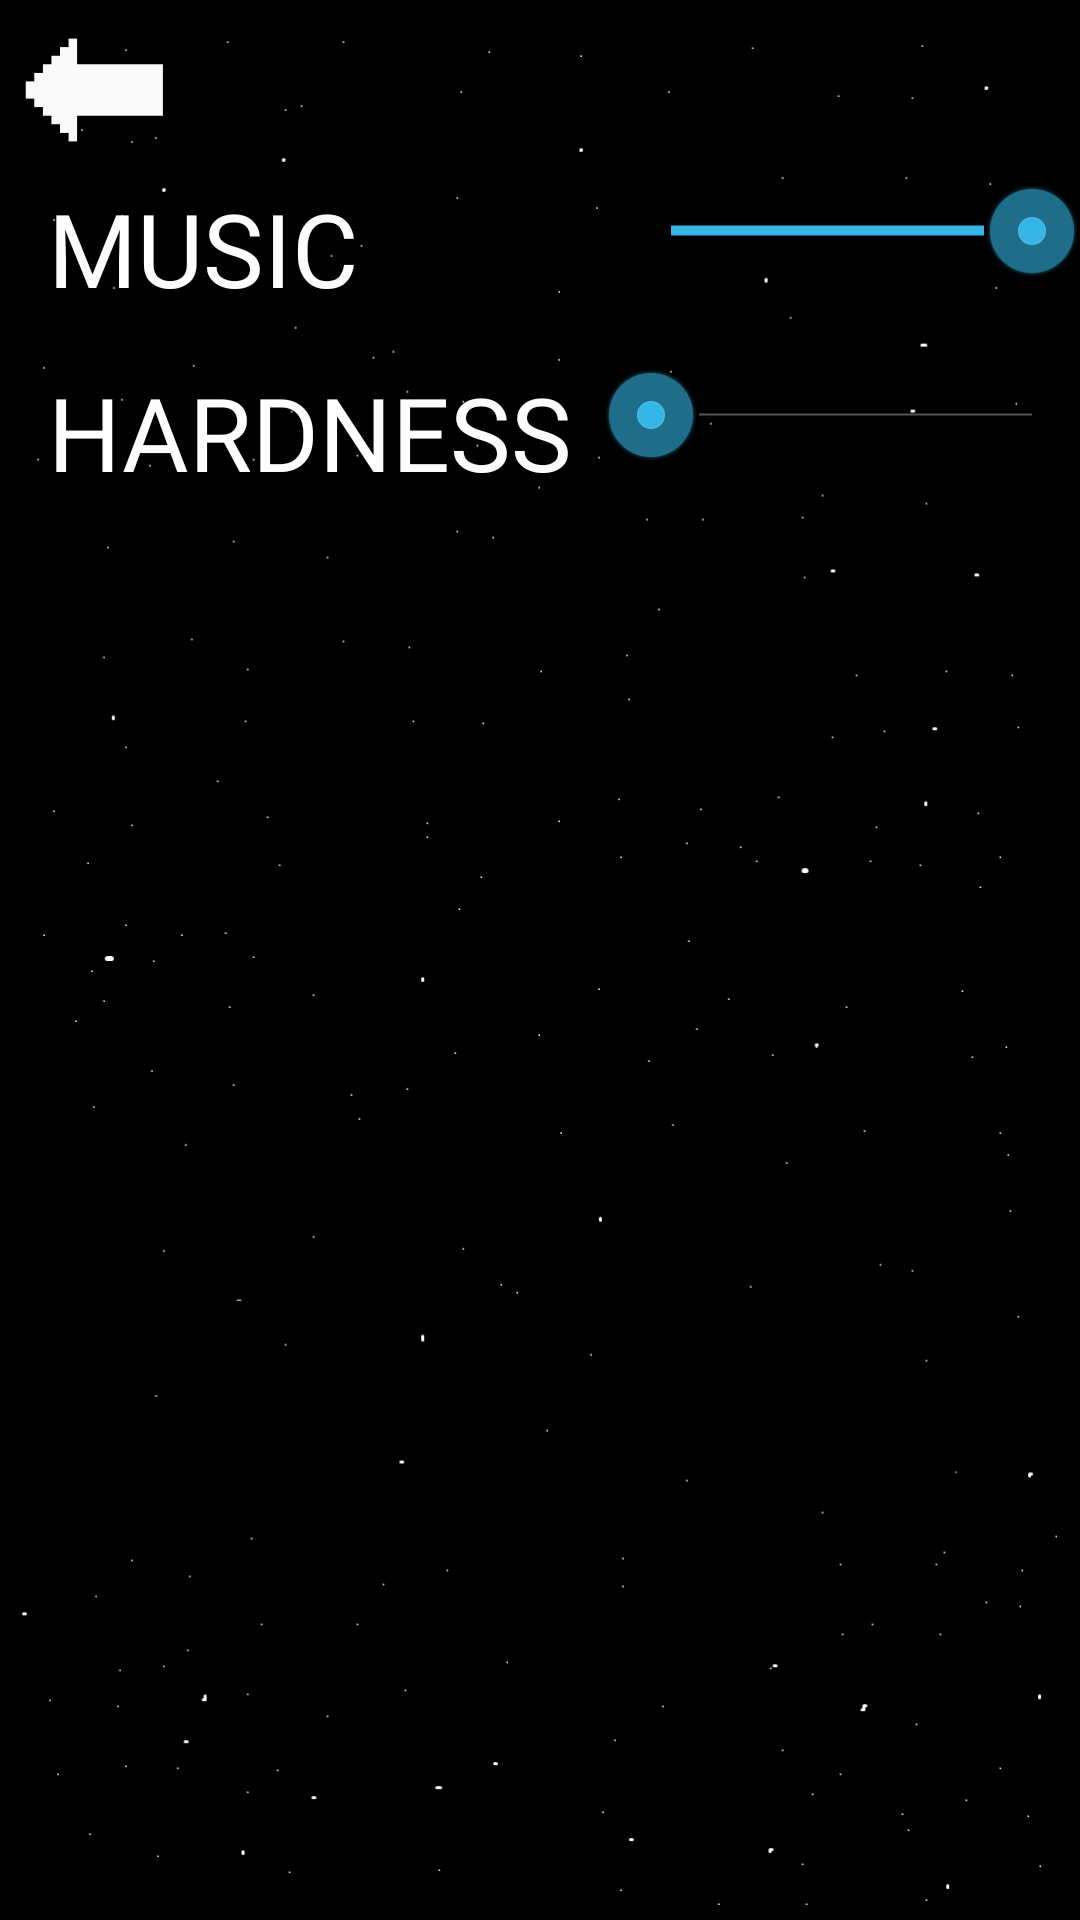

Where icons sit on this 1080px×1920px app screen, as (x1, y1, x2, y2):
back arrow: (25, 38, 163, 143)
